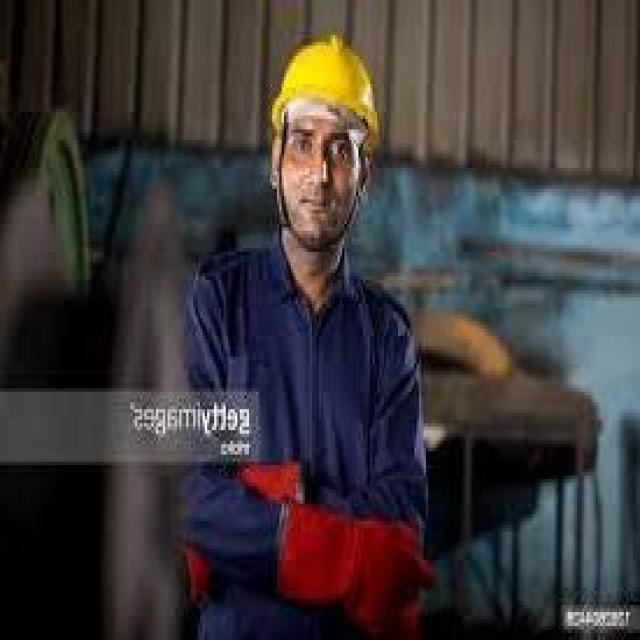safety_helmet: (260, 27, 386, 150)
